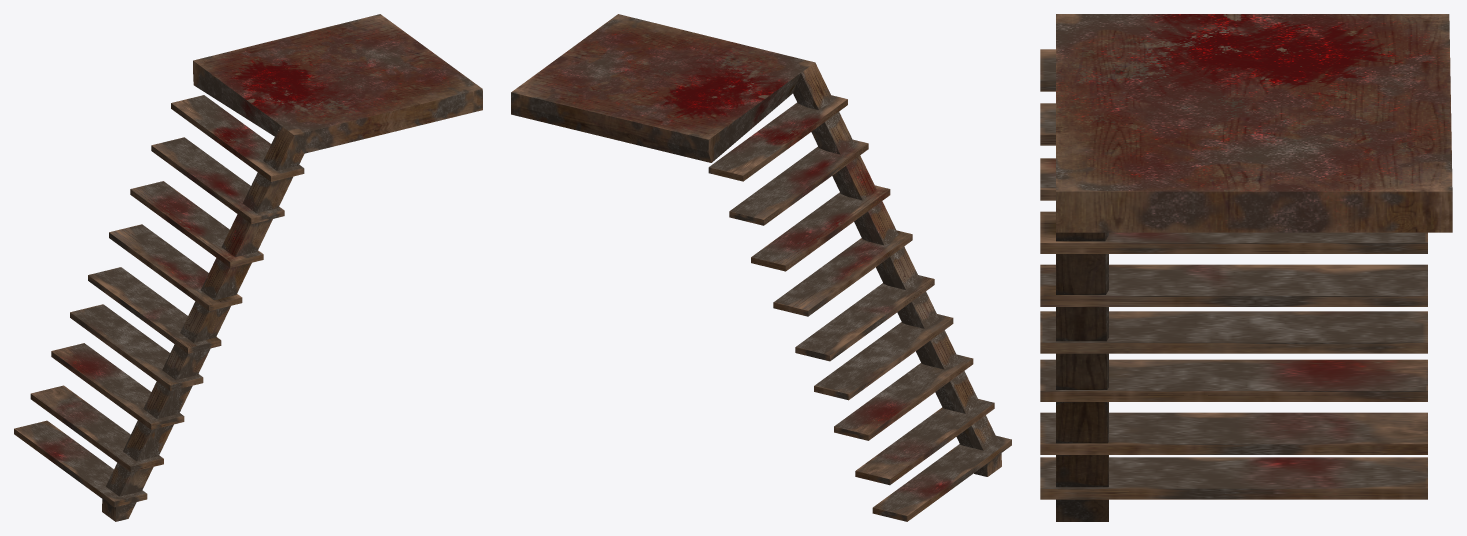
File: Wooden stairs (indoor).fbx
The picture shows the model from 3 angles, left to right: view 1: azimuth 30°, elevation 25°; view 2: azimuth 150°, elevation 25°; view 3: azimuth 270°, elevation 25°; orthographic projection. The views are drawn at different scales.
Parts seen in each view (by area): view 1: Wooden_Stairs; view 2: Wooden_Stairs; view 3: Wooden_Stairs.
Part boxes in pixels (x1,y1,x2,y2): Wooden_Stairs: (14,14,482,521); Wooden_Stairs: (511,14,1011,521); Wooden_Stairs: (1040,14,1452,521).
Size of the model in its own units: 10538 by 9279 by 5212.
Materials: 1 (1 with a texture image).
